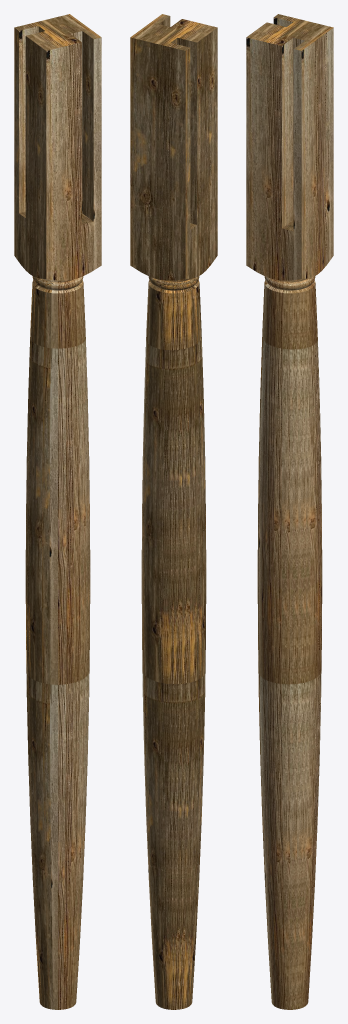
File: original-24.obj
3 renders of one model, left to right at view 1: azimuth 30°, elevation 25°; view 2: azimuth 150°, elevation 25°; view 3: azimuth 330°, elevation 25°, orthographic.
Visible parts, largest first — view 1: leg_1_2/leg_1_1_2/mesh41/mesh41-geometry#mesh41-geometry; view 2: leg_1_2/leg_1_1_2/mesh41/mesh41-geometry#mesh41-geometry; view 3: leg_1_2/leg_1_1_2/mesh41/mesh41-geometry#mesh41-geometry.
Boxes of the visible parts, x1,y1,x2,y2 form: leg_1_2/leg_1_1_2/mesh41/mesh41-geometry#mesh41-geometry: (14,14,101,1009); leg_1_2/leg_1_1_2/mesh41/mesh41-geometry#mesh41-geometry: (130,14,217,1009); leg_1_2/leg_1_1_2/mesh41/mesh41-geometry#mesh41-geometry: (246,14,333,1009).
Size of the model in its own units: 0.0538 by 0.8907 by 0.0538.
